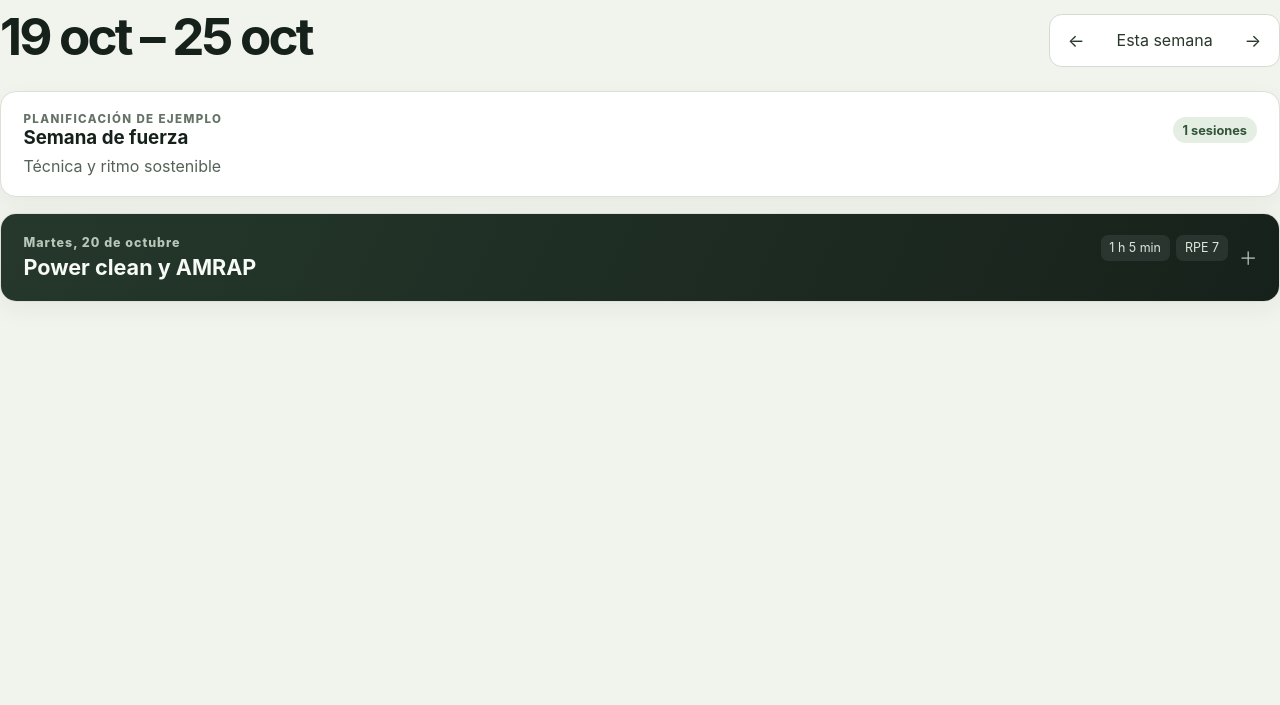
Test: PlanningWeekScreen › renders the complete published week
Expected: the heading "Semana de fuerza" is shown, [23,126,188,149]
Expected: the text "Técnica y ritmo sostenible" is shown, [23,156,221,176]
Click the heading "Power clean y AMRAP" at point(140, 267), box [23,254,256,280]
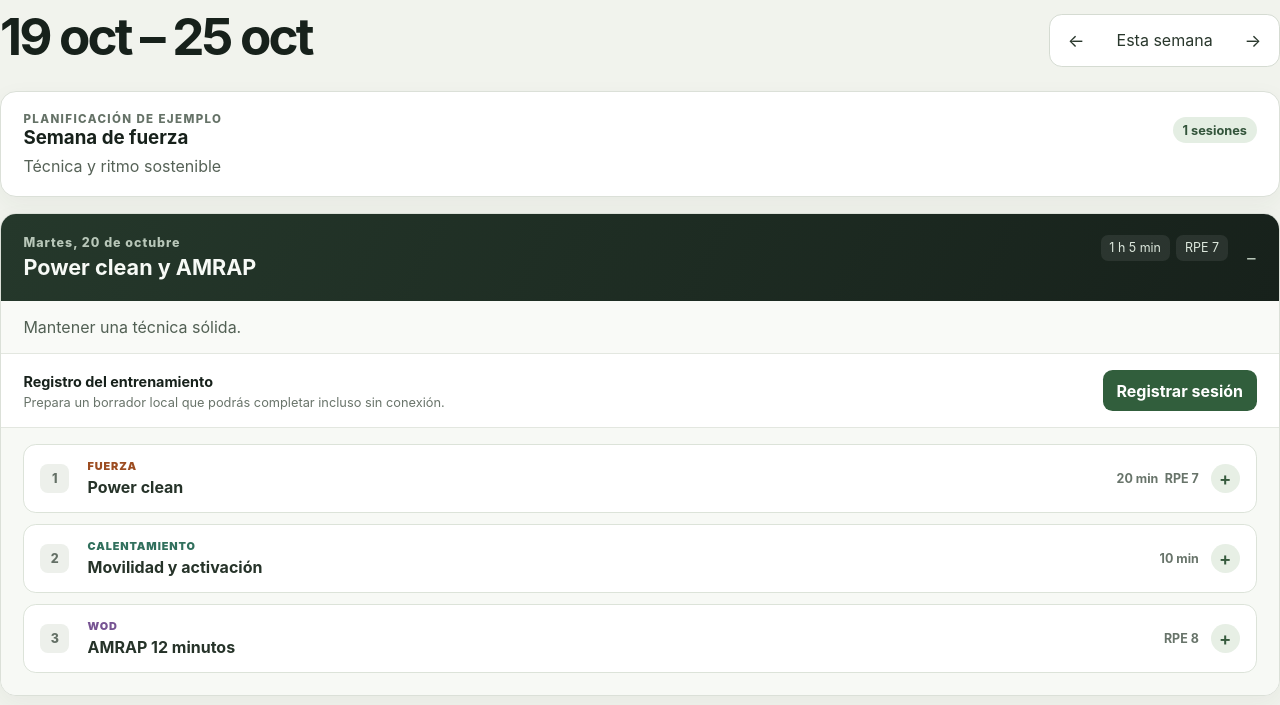
Now the text "Power clean y AMRAP" has attribute open
Click the button with aria-label "Fuerza: Power clean" at point(112, 466), box [24,445,1256,512]
(page scrolled)
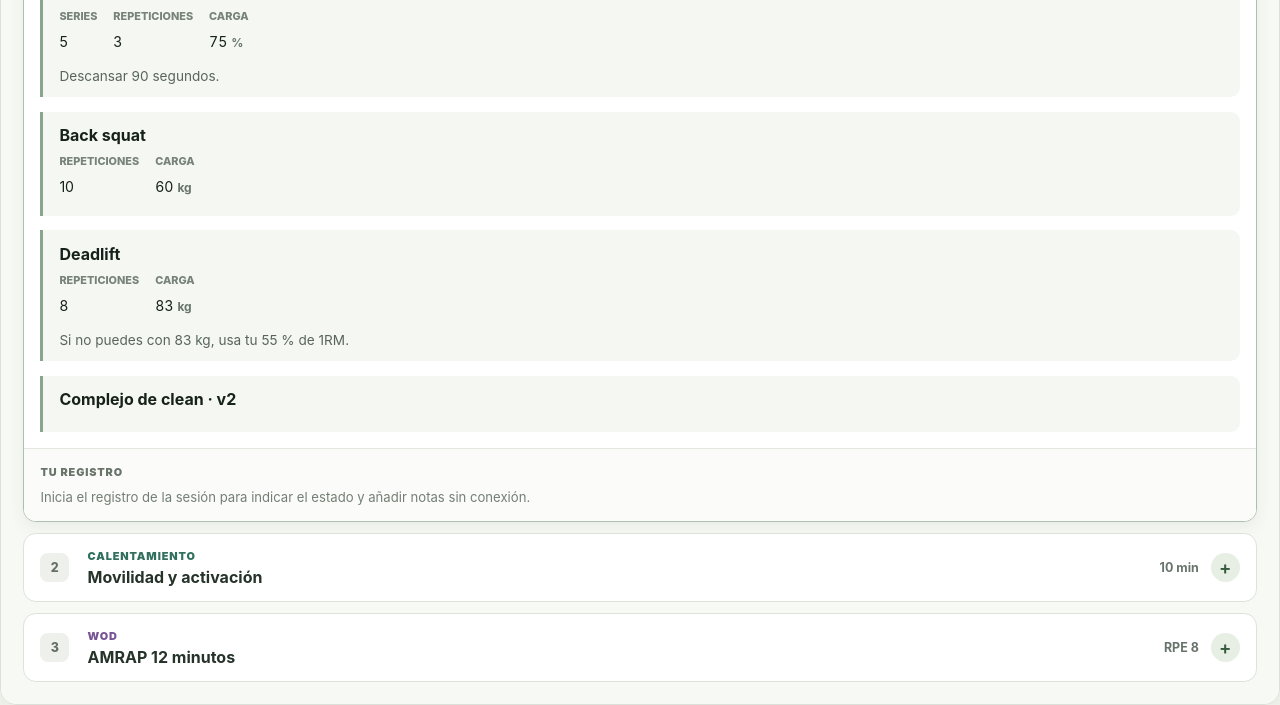
Now the text "5" is shown, box [59,33,68,50]
Now the text "Carga" is shown 3 times, box [209,9,249,23]; [155,154,195,168]; [155,273,195,287]
Now the text "Descansar 90 segundos." is shown, box [59,68,220,84]
